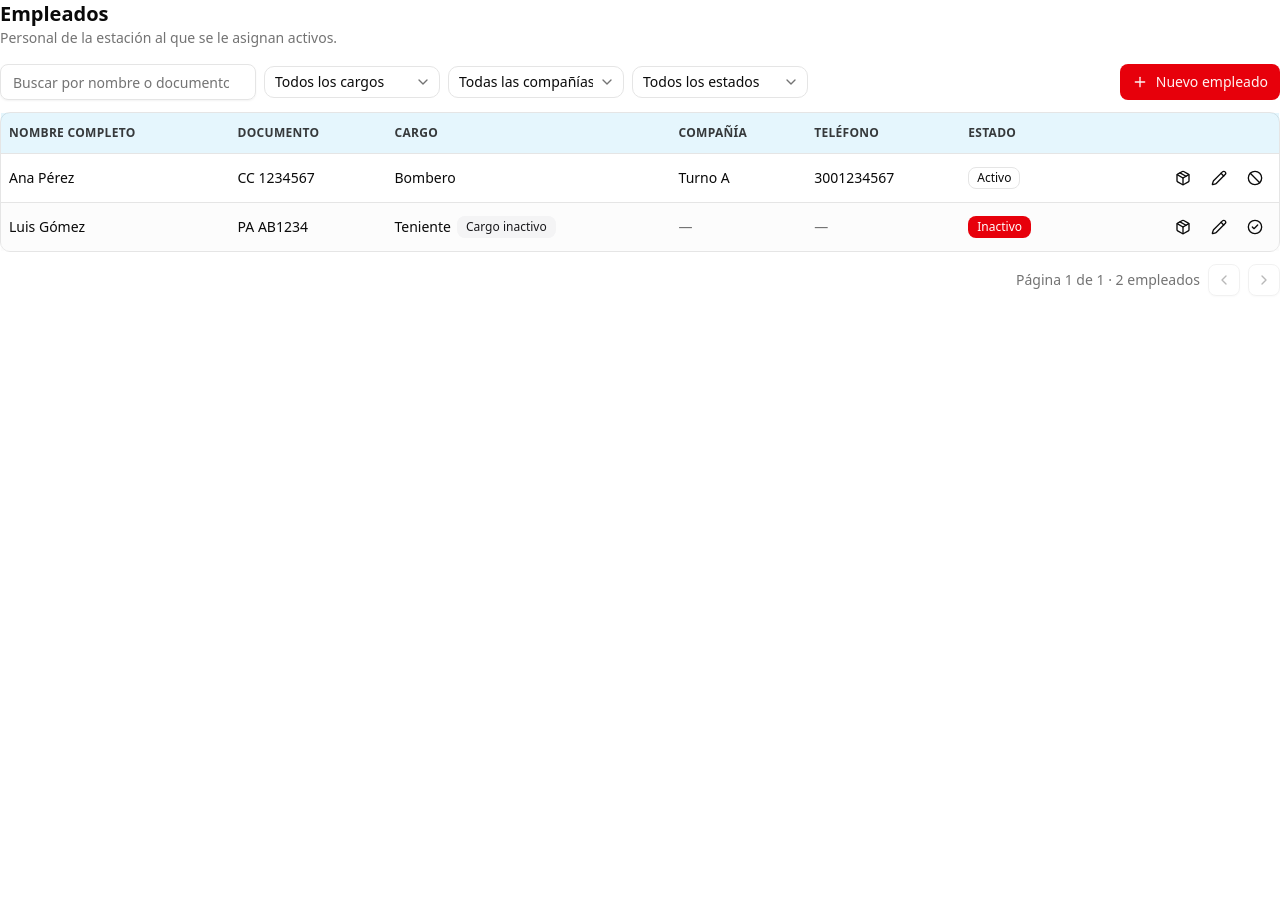
Test: EmpleadosScreen (/empleados, 004 US1, US3, RN-022) › abre el formulario para crear y para editar
Expected: the row "Ana Pérez CC 1234567 Bombero Turno A 3001234567 Activo" is shown, [1, 153, 1279, 202]
What coordinates should you click on to do the following:
click the button "Nuevo empleado"
I would click on:
 (1200, 82)
Its box is [1120, 64, 1279, 100].
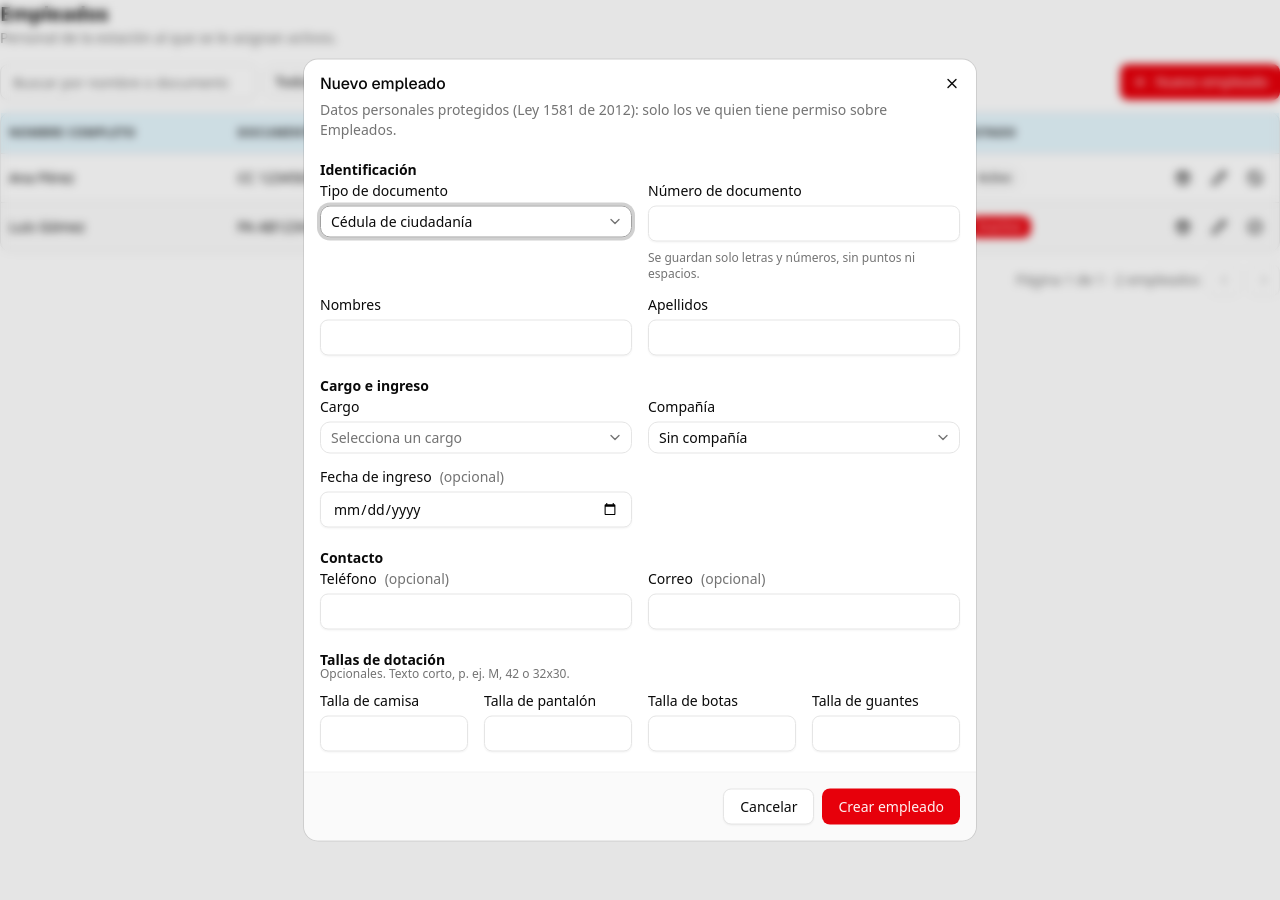
Expected: the dialog "Nuevo empleado" is shown, [304, 60, 976, 840]
What coordinates should you click on to do the following:
click the button "Cancelar"
I would click on:
 (769, 806)
Its box is [723, 788, 814, 824].
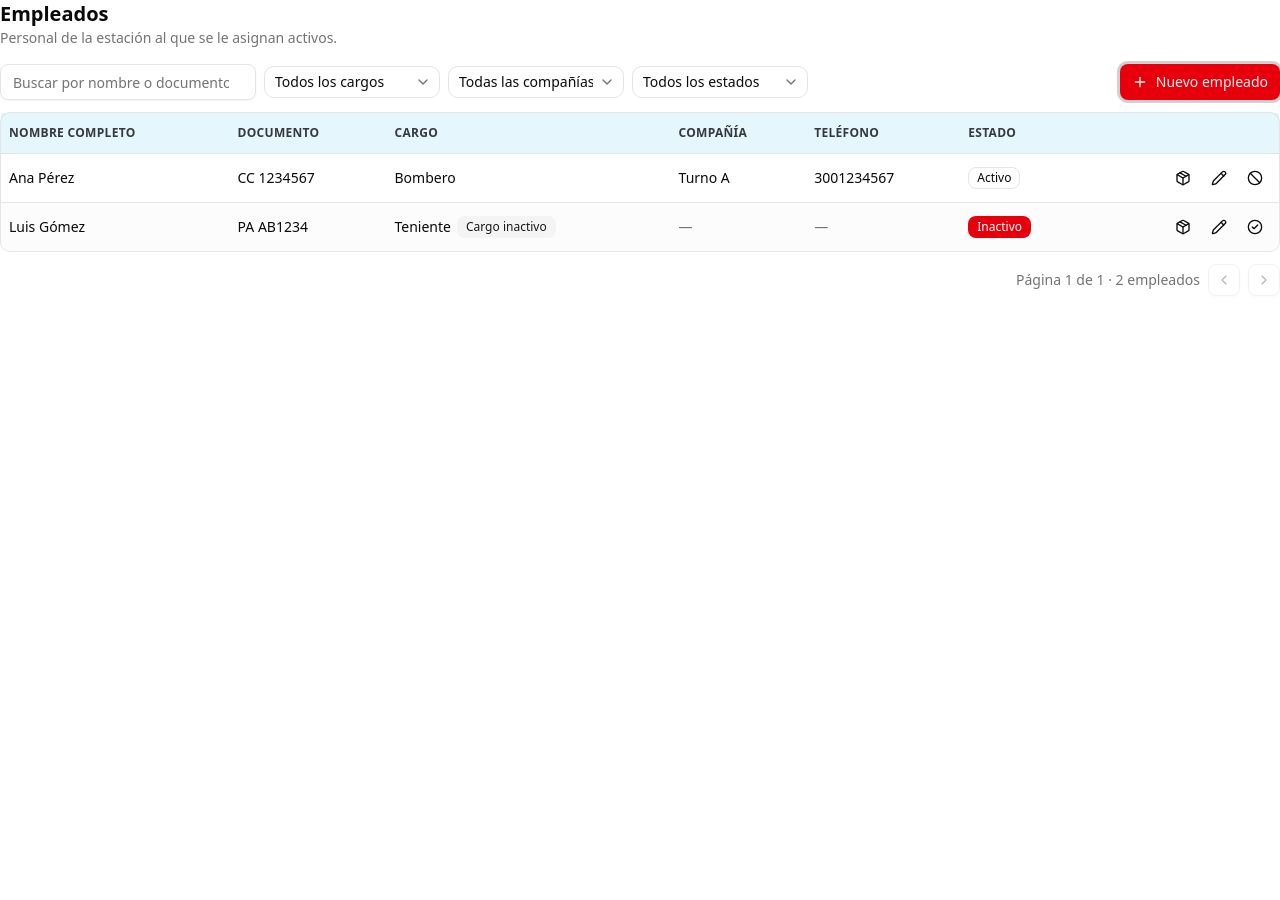
Expected: the dialog is gone
What coordinates should you click on to do the following:
click the button named "Editar Ana Pérez"
I would click on:
 (1219, 178)
Its box is [1203, 162, 1235, 194].
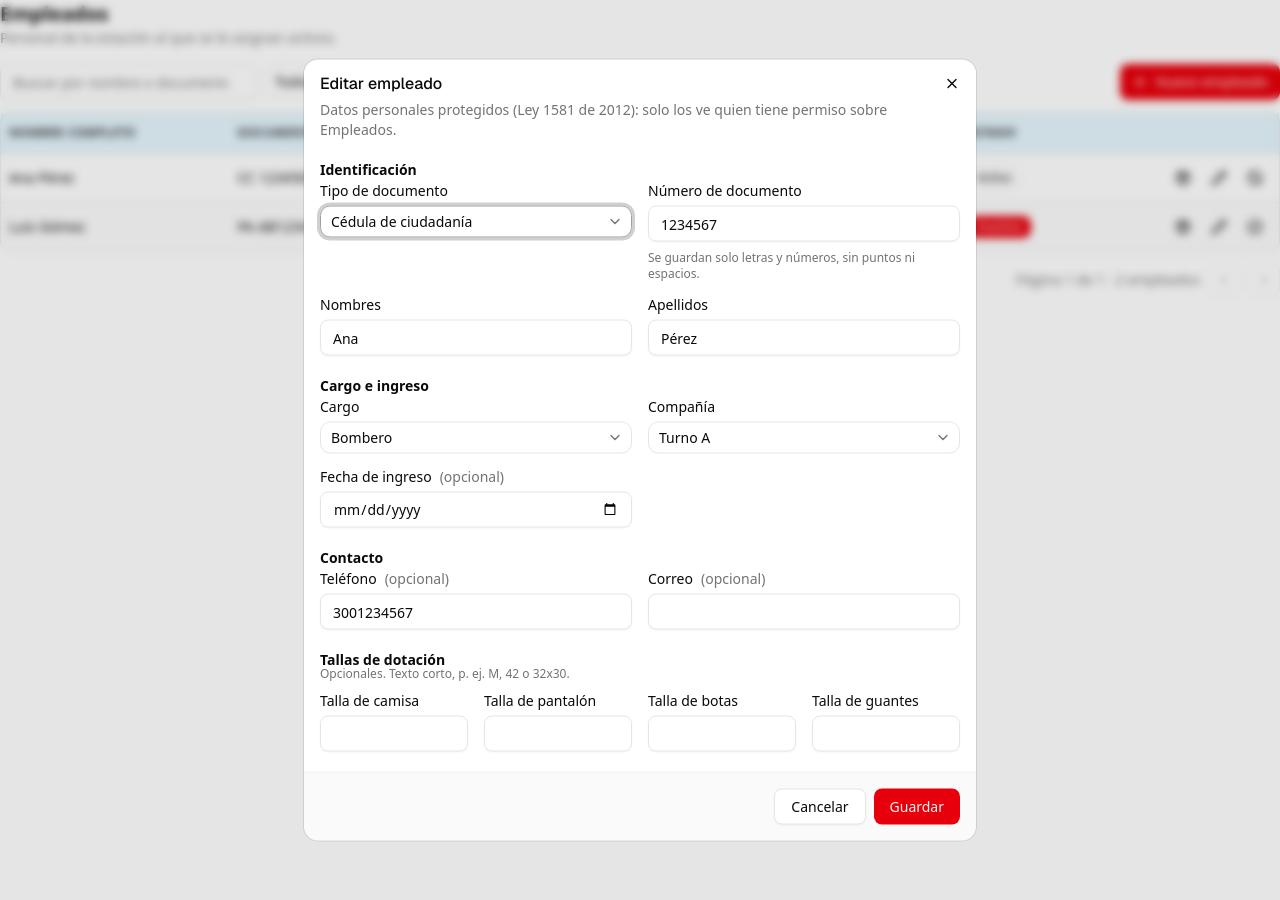
Expected: the field labelled "Nombres" holds "Ana", [320, 320, 632, 356]
